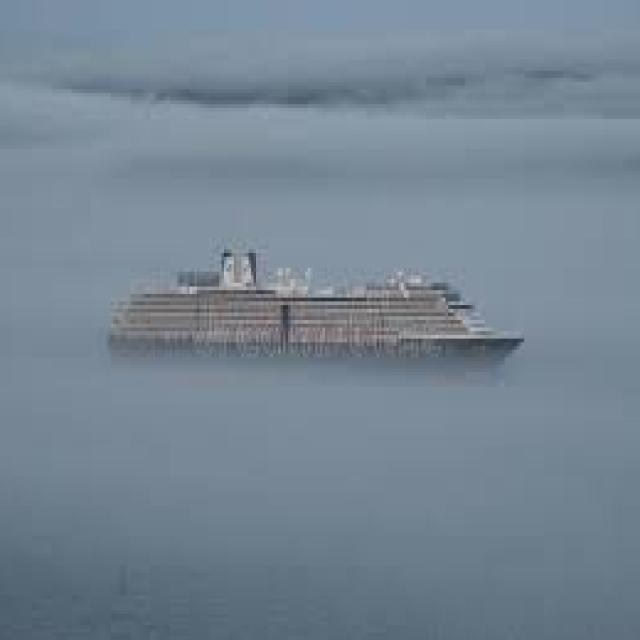passenger ship: (108, 238, 530, 380)
